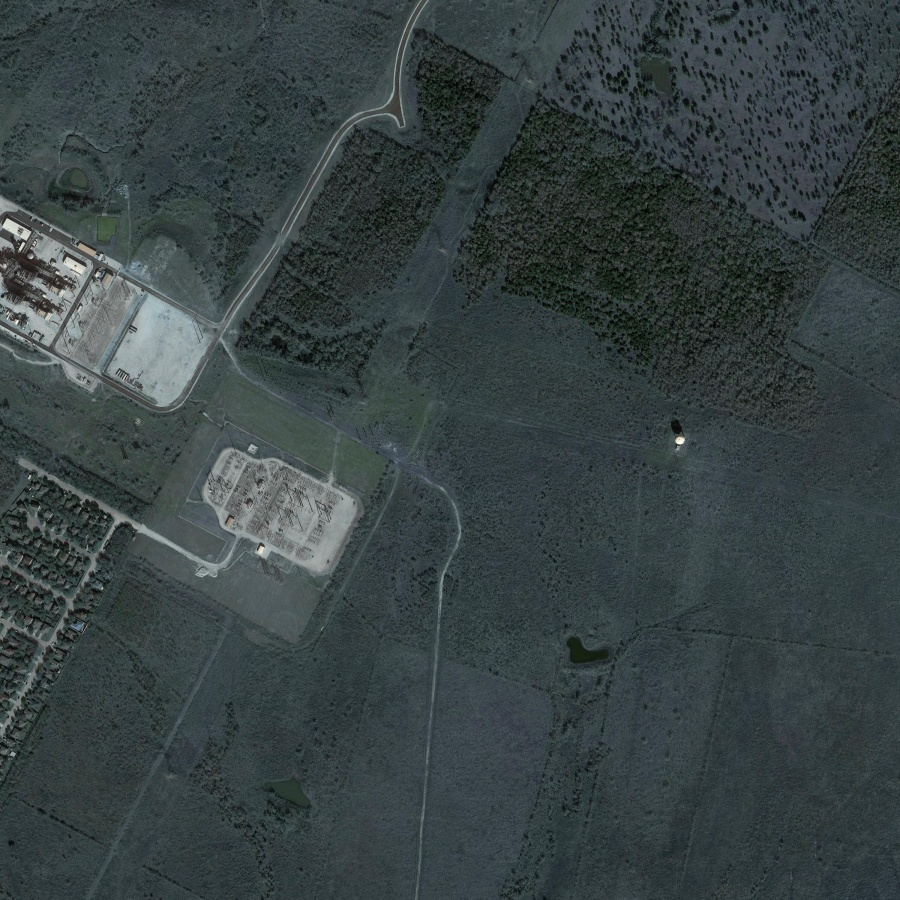PowerPlant: (200, 432, 346, 568)
